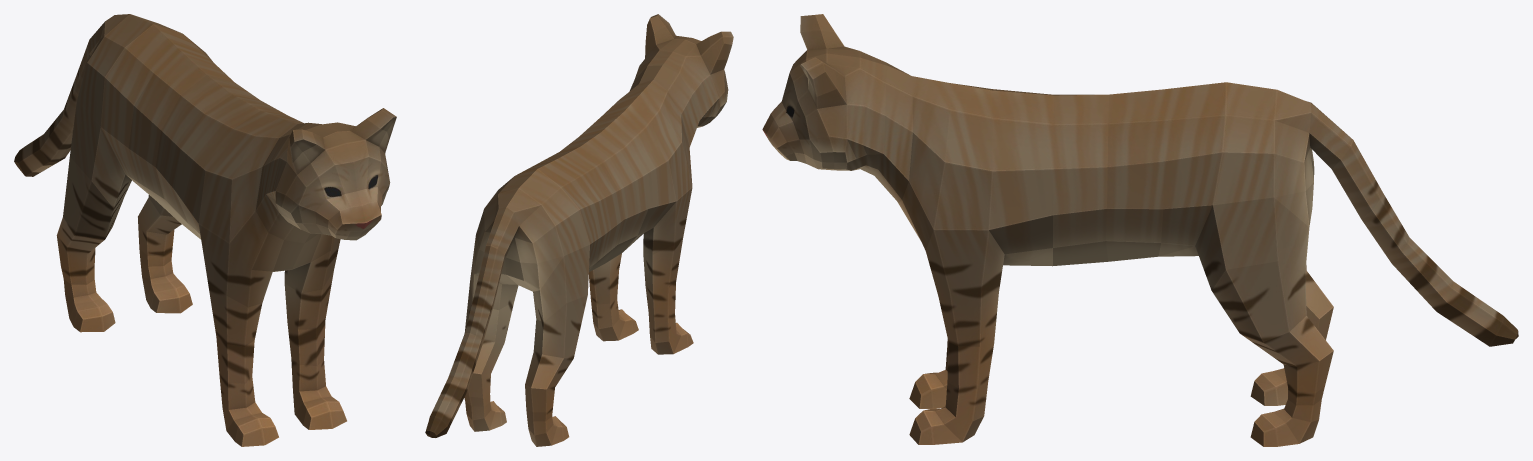
File: cat.glb
3 renders of one model, left to right at view 1: azimuth 30°, elevation 25°; view 2: azimuth 150°, elevation 25°; view 3: azimuth 270°, elevation 25°, orthographic. The views are drawn at different scales.
Parts seen in each view (by area): view 1: ArabianWildcat_mesh; view 2: ArabianWildcat_mesh; view 3: ArabianWildcat_mesh.
Part boxes in pixels (bbox=[...]): ArabianWildcat_mesh: bbox=[14, 14, 396, 446]; ArabianWildcat_mesh: bbox=[425, 14, 733, 446]; ArabianWildcat_mesh: bbox=[762, 14, 1518, 446].
Bounding box in the file's own units: 0.8992 × 2.36 × 4.24.
1 material, 1 textured.
